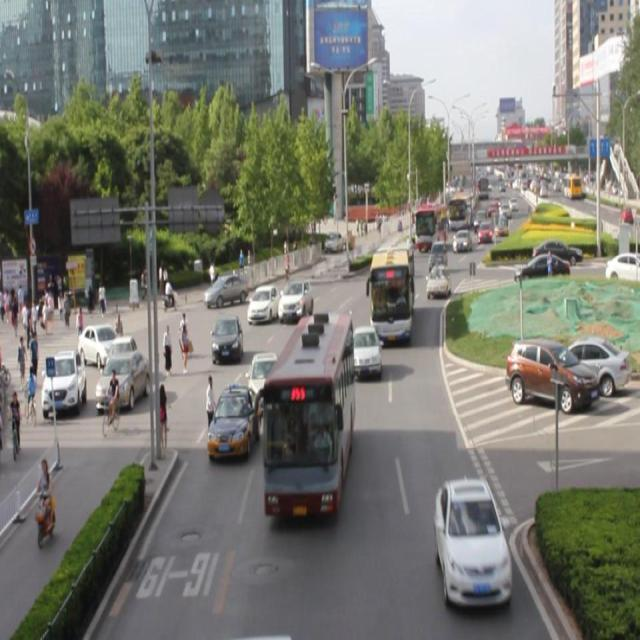car: (434, 475, 508, 605), (206, 381, 258, 455), (306, 319, 349, 373), (247, 349, 282, 410), (350, 324, 380, 376), (211, 313, 242, 361), (277, 278, 312, 316), (246, 281, 278, 320), (426, 262, 450, 296)
van: (263, 314, 352, 514), (370, 235, 414, 338)
